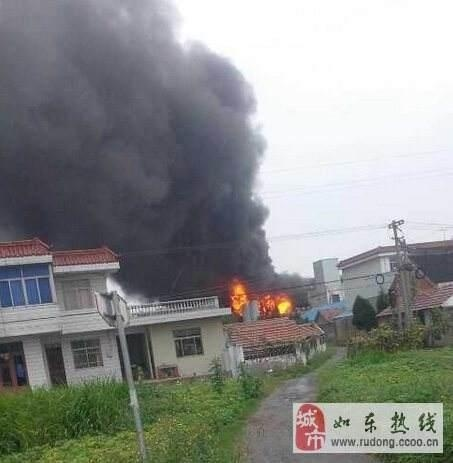fire: (230, 279, 297, 316)
